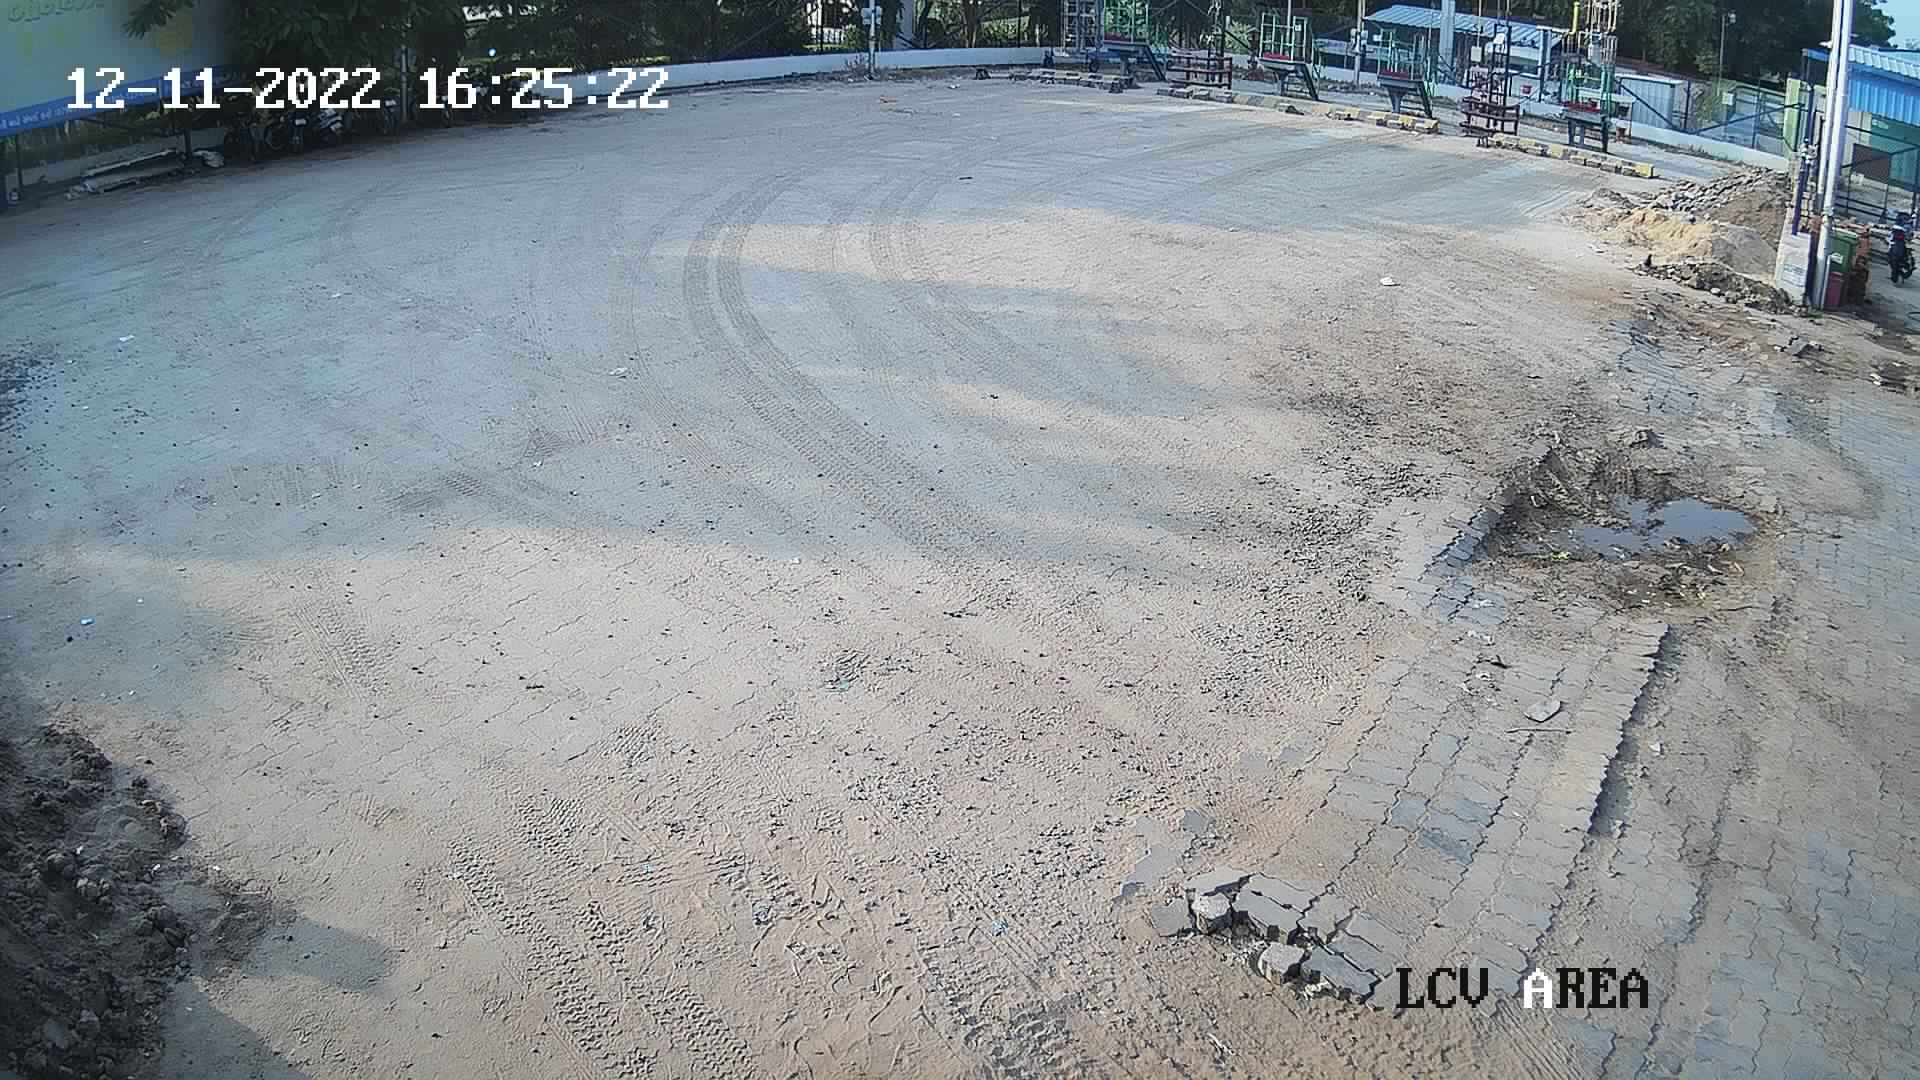Bike: (1870, 203, 1913, 290)
